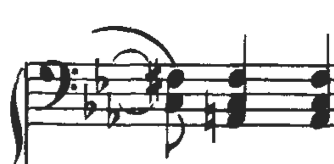bass_clef: (31, 47, 80, 118)
flat: (102, 91, 123, 134), (81, 82, 101, 127), (91, 54, 112, 94)
